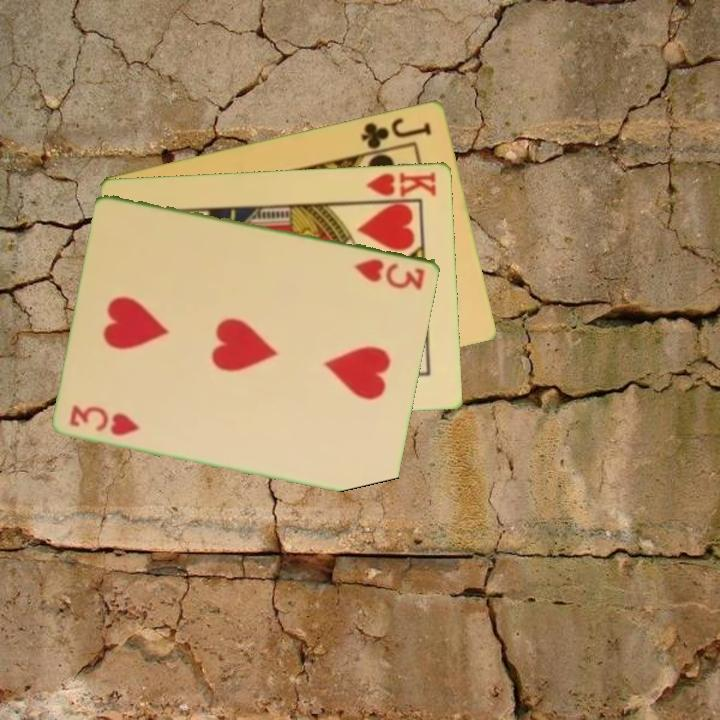3h: (67, 401, 144, 439), (351, 255, 428, 292)
Jc: (358, 113, 435, 152)
Kh: (358, 168, 439, 204)
